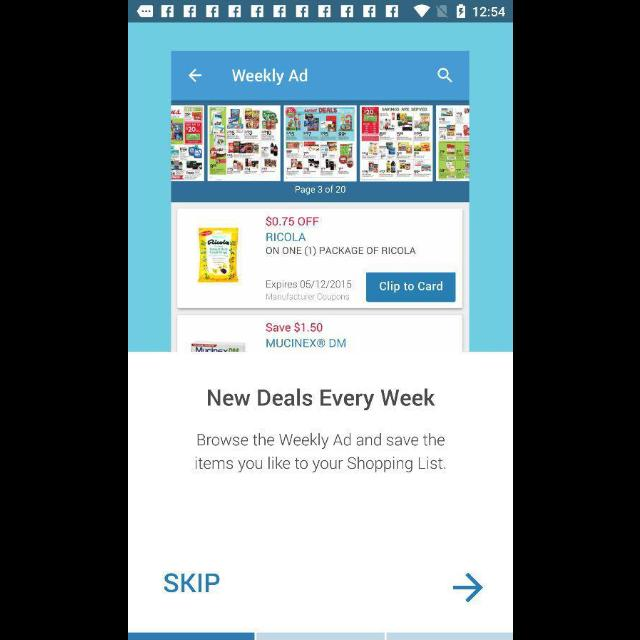icon: (453, 573, 483, 603)
image: (170, 51, 470, 352)
text: (194, 432, 446, 473), (207, 387, 436, 411), (162, 572, 220, 594)
uppertaskbar: (128, 1, 512, 23)
